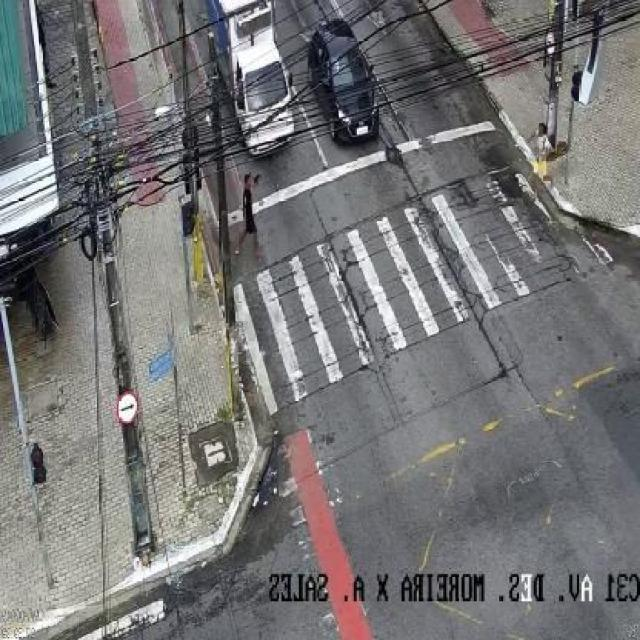Car: (306, 18, 393, 162)
Truck: (180, 0, 305, 159)
